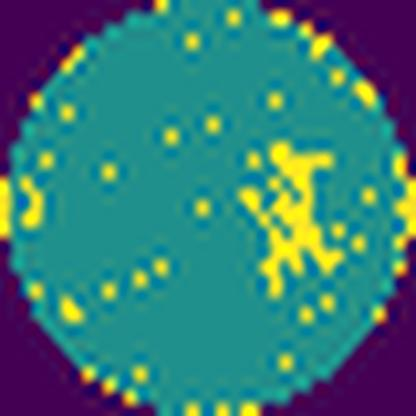Loc: (238, 139, 347, 302)
